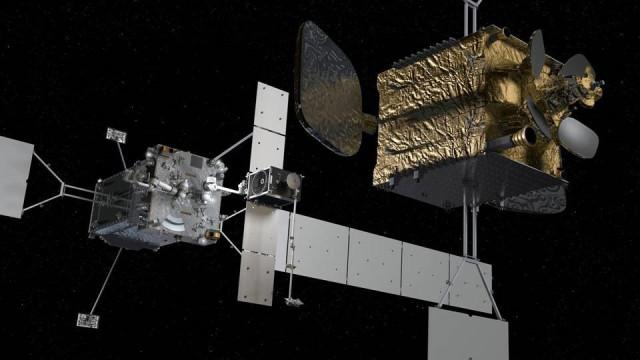antenna: (293, 19, 364, 157), (75, 246, 124, 329), (285, 189, 305, 310), (557, 115, 600, 160), (524, 95, 553, 141), (104, 127, 128, 171), (557, 54, 595, 80), (528, 28, 546, 79), (286, 171, 301, 190)
body: (372, 23, 570, 211), (86, 143, 227, 253)
solar: (273, 207, 494, 315), (236, 199, 279, 307), (427, 305, 510, 360), (248, 81, 291, 175), (0, 134, 37, 220)
thruster: (512, 124, 538, 149), (495, 26, 512, 41), (87, 232, 98, 240)
